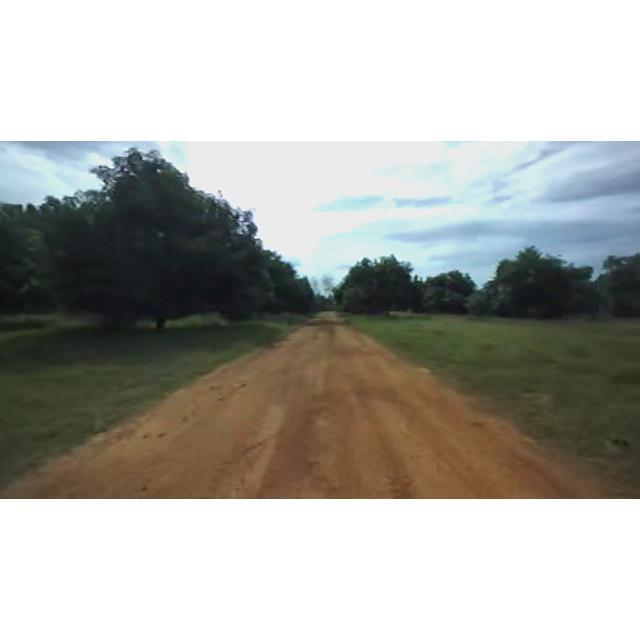tree: (27, 147, 273, 339), (478, 236, 602, 324), (210, 234, 314, 326), (331, 248, 415, 320), (411, 254, 481, 316), (598, 246, 638, 326)
